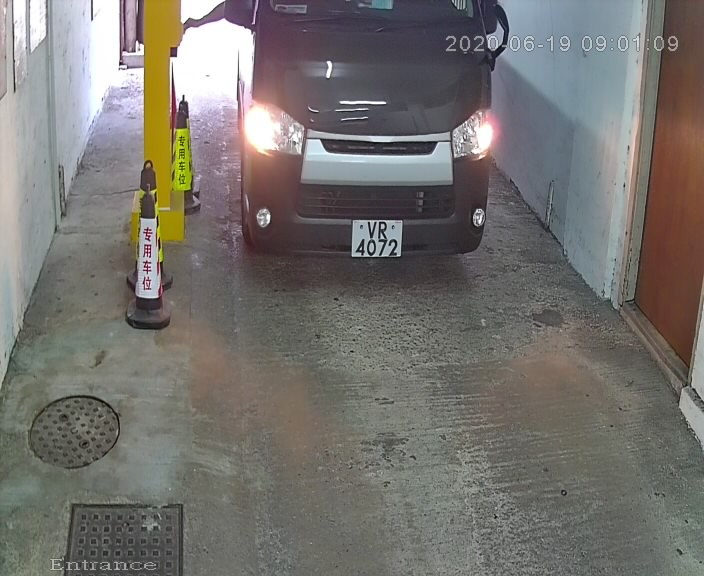bottom_left_lp: (349, 250, 360, 258)
bottom_left_radiator: (296, 172, 313, 186)
bottom_left_windshield: (258, 15, 280, 35)
bottom_right_lp: (396, 251, 404, 259)
bottom_right_radiator: (449, 173, 458, 188)
bottom_right_windshield: (462, 38, 486, 60)
left_headlight: (242, 93, 307, 158)
right_headlight: (451, 100, 494, 167)
top_left_lp: (350, 216, 358, 226)
top_left_radiator: (300, 122, 314, 135)
top_right_lp: (396, 215, 408, 226)
top_right_radiator: (440, 125, 453, 138)
